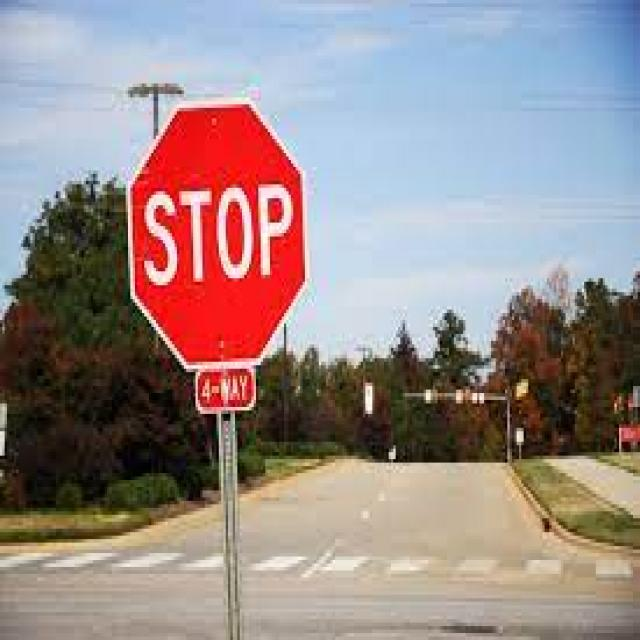stop-sign: (73, 102, 364, 372)
